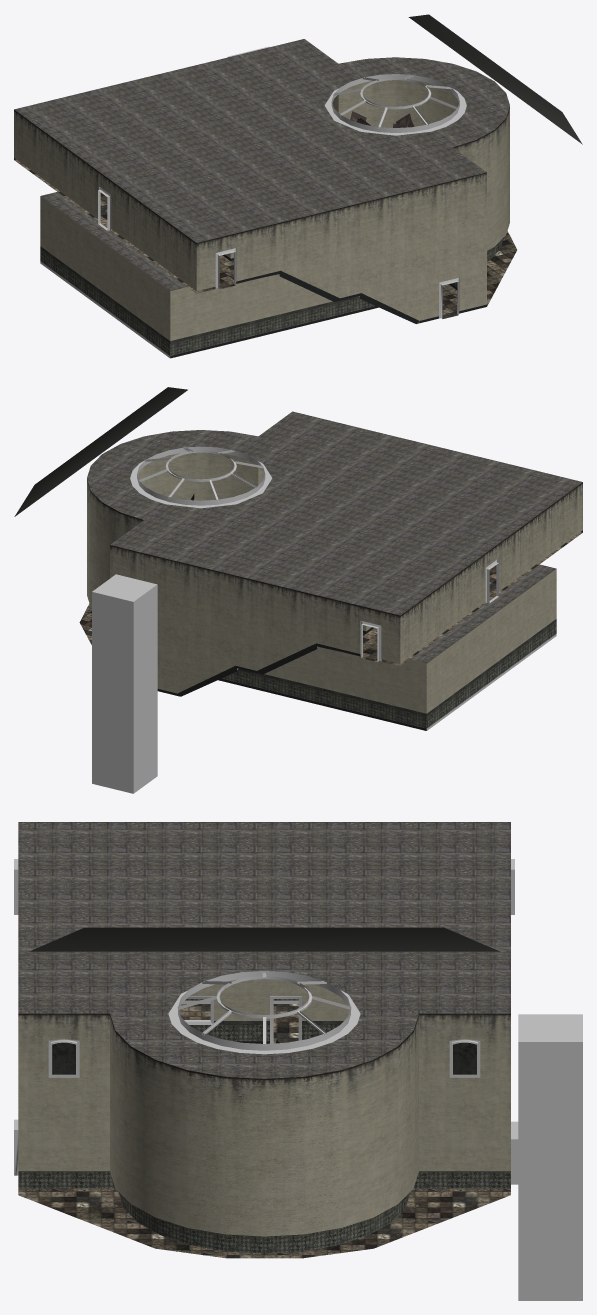
File: StartRoom_v4.FBX
The picture shows the model from 3 angles, top to bottom: view 1: azimuth 30°, elevation 25°; view 2: azimuth 150°, elevation 25°; view 3: azimuth 270°, elevation 25°; orthographic projection. The views are drawn at different scales.
Visible parts, largest first — view 1: StartRoom_Bedroom, StartRoom_DeadBranches; view 2: StartRoom_Bedroom, StartRoom_DeadBranches; view 3: StartRoom_Bedroom, StartRoom_DeadBranches.
Boxes of the visible parts, bbox=[...] form: StartRoom_Bedroom: bbox=[14, 39, 516, 358]; StartRoom_DeadBranches: bbox=[350, 14, 582, 144]; StartRoom_Bedroom: bbox=[79, 411, 582, 793]; StartRoom_DeadBranches: bbox=[14, 387, 194, 516]; StartRoom_Bedroom: bbox=[14, 822, 582, 1300]; StartRoom_DeadBranches: bbox=[29, 927, 499, 1043].
Size of what is drawn, in the model's own units: 7336 by 4191 by 6812.
